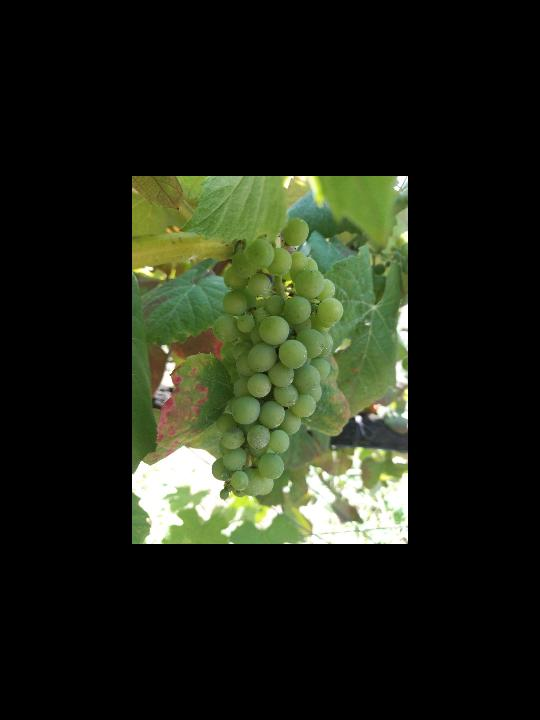grape: (211, 214, 345, 502)
